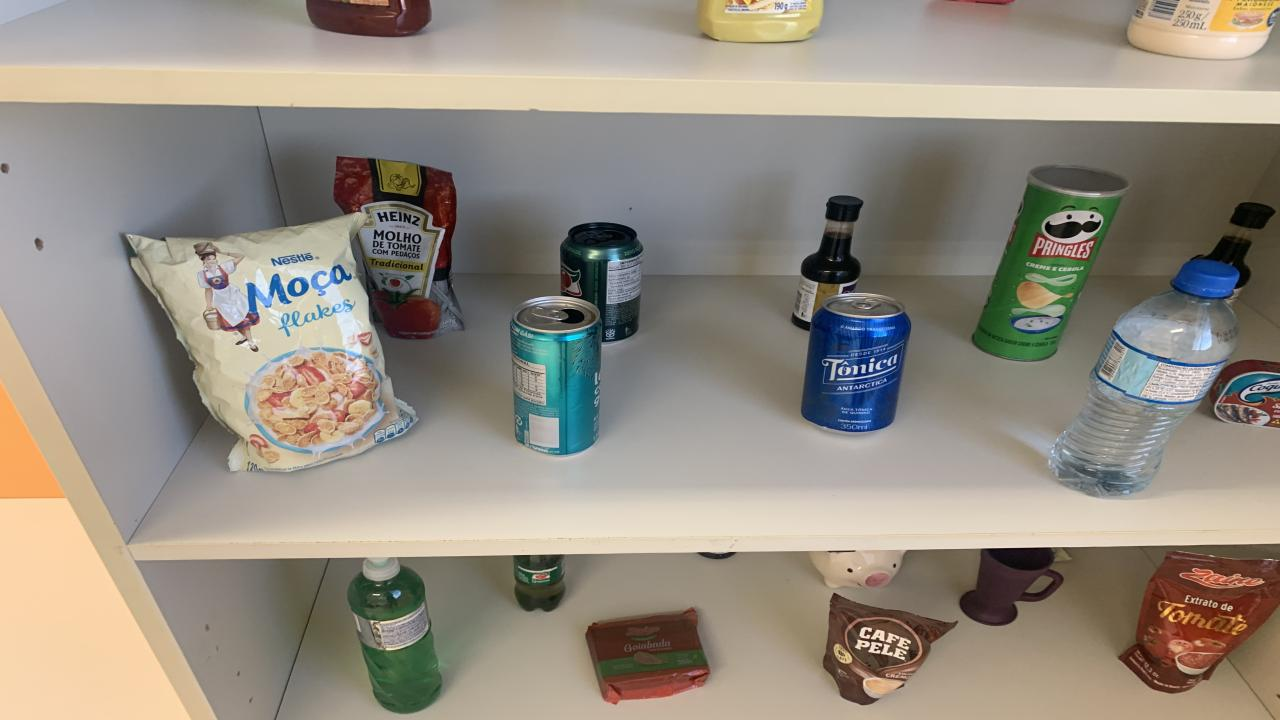Coffee-Pantry_Items: (822, 594, 958, 705)
Detergent-Cleanup_Items: (348, 557, 442, 712)
English_Sauce-Pantry_Items: (790, 195, 862, 330), (1195, 202, 1275, 304), (698, 551, 735, 559)
Flakes-Snacks: (125, 214, 418, 471)
Guarana-Drinks: (512, 555, 565, 611)
Guarana_Can-Drinks: (560, 223, 642, 343)
Guava-Snacks: (585, 608, 710, 703)
Ketchup-Pantry_Items: (305, 0, 432, 38)
Mayonnaise-Pantry_Items: (1128, 0, 1280, 60)
Mustard-Pantry_Items: (698, 0, 822, 41)
Pig_Safe-Miscellaneous: (810, 549, 905, 589)
Pringles-Snacks: (972, 165, 1130, 360)
Tea-Drinks: (510, 296, 602, 456)
Tomato_Sauce-Pantry_Items: (332, 158, 465, 339), (1120, 551, 1280, 694)
Tonic-Drinks: (802, 292, 910, 433)
Tuna_Can-Pantry_Items: (1210, 360, 1280, 428)
Water_Bottle-Drinks: (1048, 261, 1240, 497)
